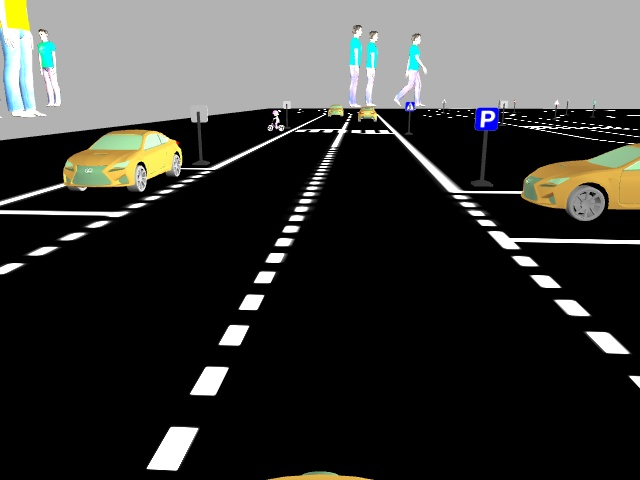Parking: (471, 106, 501, 129)
